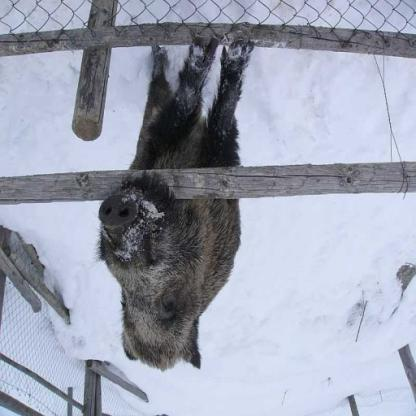boar: (56, 55, 262, 405)
